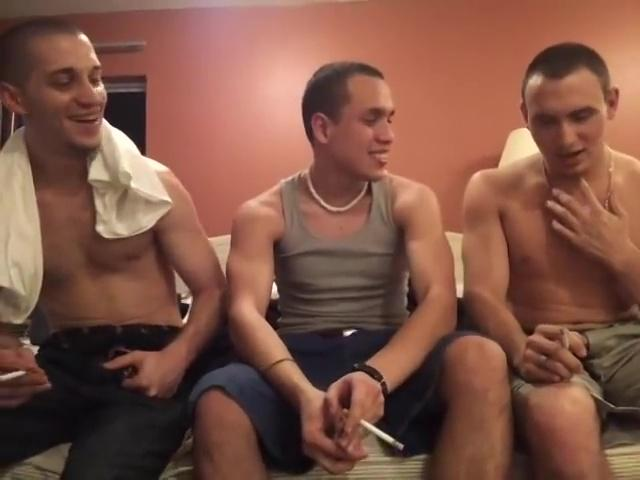cigarette: (360, 416, 406, 452), (0, 364, 29, 381), (556, 329, 572, 350)
